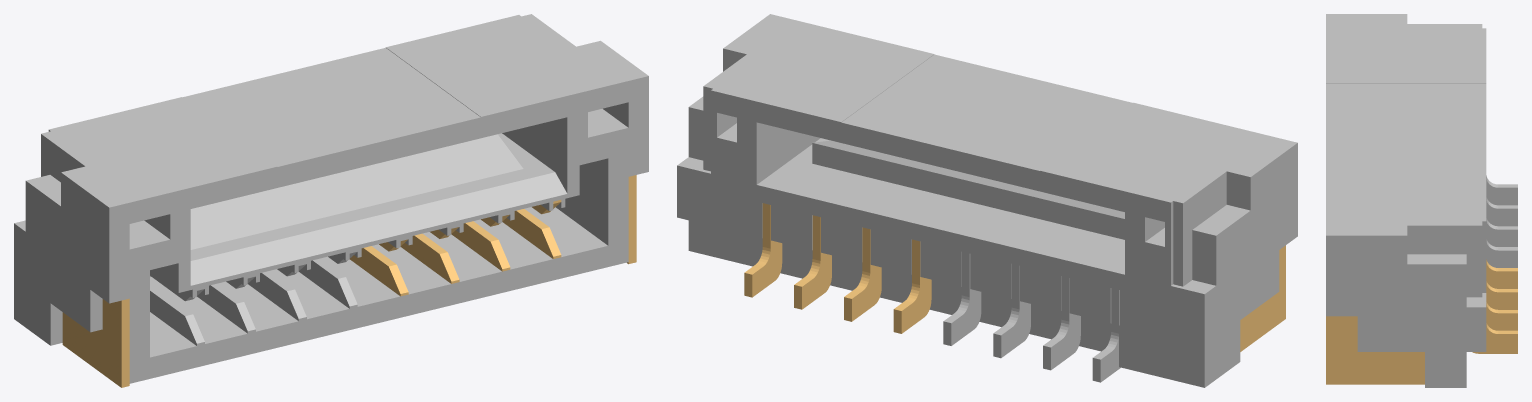
The model's file is SM08B-GHS-TB.obj.
The picture shows the model from 3 angles, left to right: view 1: azimuth 30°, elevation 25°; view 2: azimuth 150°, elevation 25°; view 3: azimuth 270°, elevation 25°; orthographic projection. The views are drawn at different scales.
Parts seen in each view (by area): view 1: SM08B-GHS-TB; view 2: SM08B-GHS-TB; view 3: SM08B-GHS-TB.
Boxes of the visible parts, box(x1,y1,x2,y2) form: SM08B-GHS-TB: box(14, 14, 648, 387); SM08B-GHS-TB: box(677, 14, 1297, 387); SM08B-GHS-TB: box(1326, 14, 1517, 387).
Bounding box in the file's own units: 0.0133 × 0.00431 × 0.00486.
